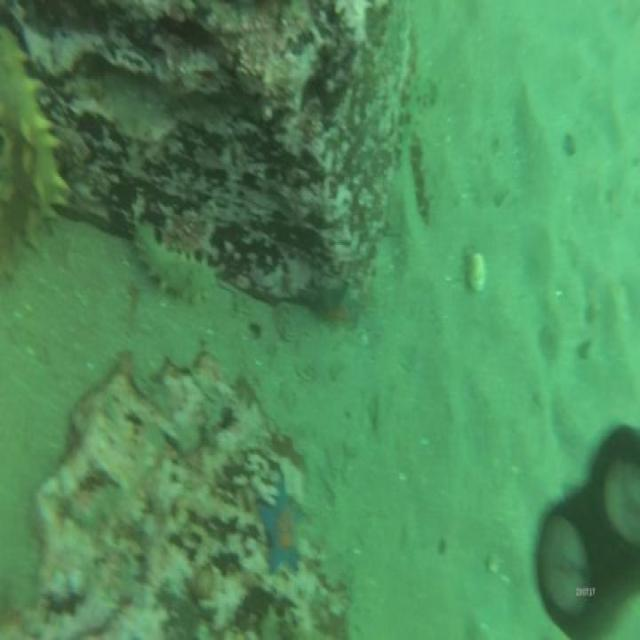holothurian: (0, 22, 71, 277), (131, 213, 221, 310), (410, 127, 433, 229)
scallop: (466, 248, 488, 296)
starfish: (259, 487, 310, 577), (316, 275, 366, 335)
